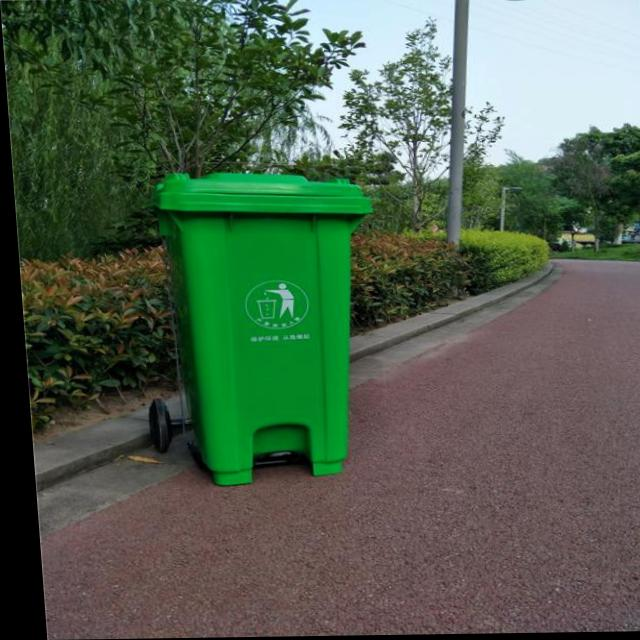garbage_bin: (148, 170, 382, 486)
